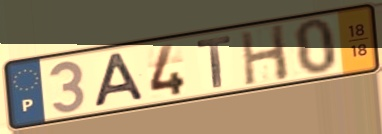0: (288, 17, 341, 77)
3: (47, 58, 88, 115)
4: (147, 42, 188, 98)
A: (90, 50, 149, 110)
H: (237, 21, 292, 88)
T: (194, 33, 233, 90)
